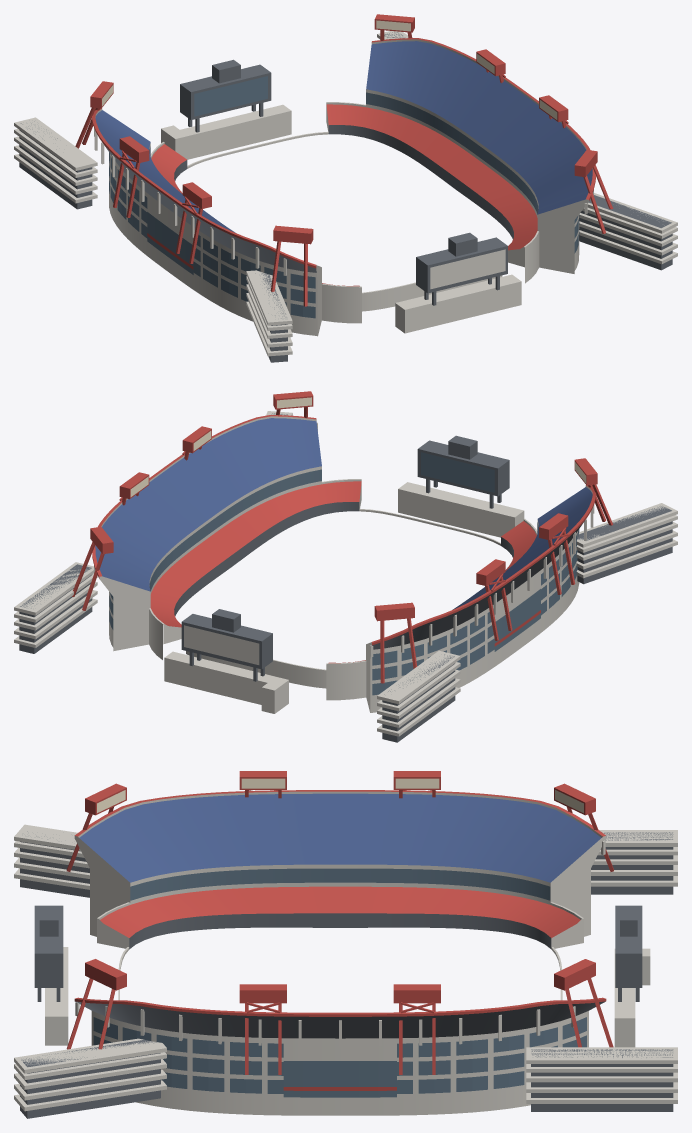
The model's file is nash-nissan-stadium.glb.
The picture shows the model from 3 angles, top to bottom: view 1: azimuth 30°, elevation 25°; view 2: azimuth 150°, elevation 25°; view 3: azimuth 270°, elevation 25°; orthographic projection. The views are drawn at different scales.
Visible parts, largest first — view 1: Nissan Stadium; view 2: Nissan Stadium; view 3: Nissan Stadium.
Boxes of the visible parts, x1,y1,x2,y2 form: Nissan Stadium: [14, 14, 677, 362]; Nissan Stadium: [14, 391, 677, 742]; Nissan Stadium: [14, 771, 677, 1118].
Size of the model in its own units: 245 by 61 by 280.
